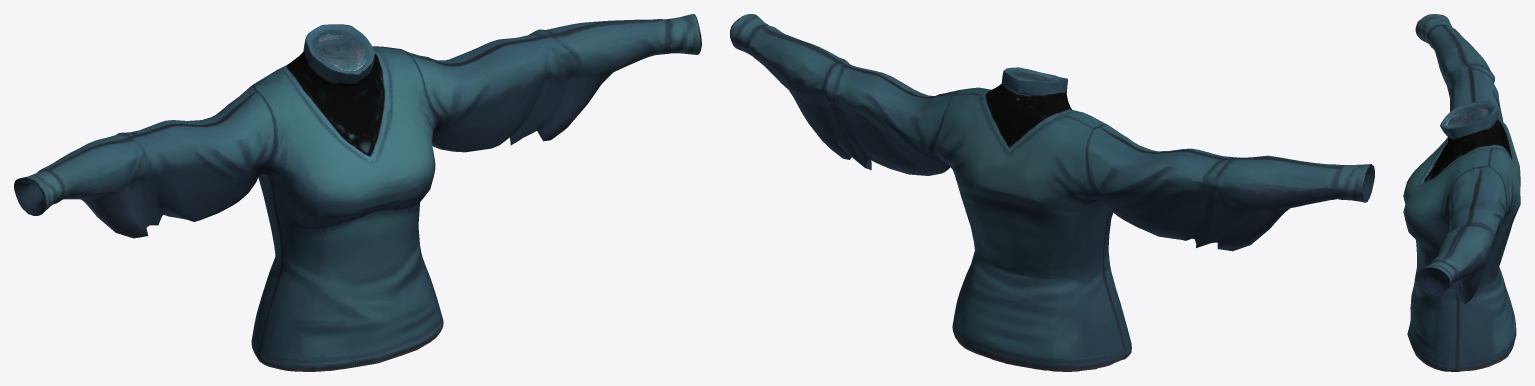
The model's file is mage_f_shirt.glb.
The picture shows the model from 3 angles, left to right: view 1: azimuth 30°, elevation 25°; view 2: azimuth 150°, elevation 25°; view 3: azimuth 270°, elevation 25°; orthographic projection. The views are drawn at different scales.
Parts seen in each view (by area): view 1: world; view 2: world; view 3: world.
Part boxes in pixels (x1,y1,x2,y2): world: (14,14,701,371); world: (730,14,1374,371); world: (1403,14,1520,371).
Bounding box in the file's own units: 1.29 × 0.54 × 0.2475.
Materials: 1 (1 with a texture image).
